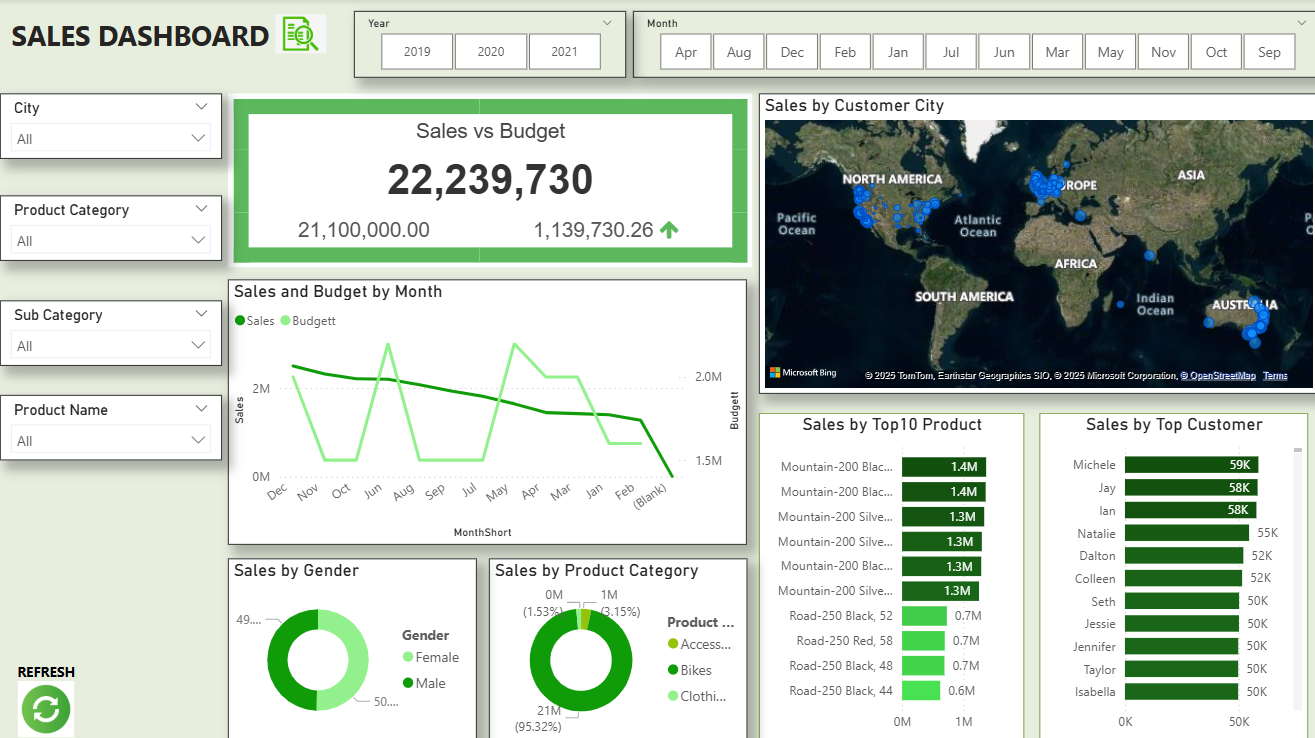

The dashboard page shown, as its layout file describes it:
{"tool":"powerbi","page":{"name":"SALES","canvas":[1280,720],"ordinal":0},"visuals":[{"type":"textbox","box":[0,11.3,272,55.1],"z":0},{"type":"BBED0A4D4D8D44CE93CF2DAFADEE466C","fields":{"actual":["Metrics.Sales"],"target1":["Metrics.Budgett"],"target2":["Metrics.Sales- Budget"]},"box":[221.8,92.3,508.4,168.4],"z":1000},{"type":"slicer","fields":{"Values":["DIM_Calendar.Year"]},"box":[343.3,11.3,263.9,64.8],"z":2000},{"type":"slicer","fields":{"Values":["DIM_Calendar.MonthShort"]},"box":[613.7,11.3,667.1,64.8],"z":3000},{"type":"lineChart","title":"Sales and Budget by Month","fields":{"Category":["DIM_Calendar.MonthShort"],"Y":["Metrics.Sales"],"Y2":["Metrics.Budgett"]},"box":[221.8,272,503.6,257.5],"z":4000},{"type":"map","fields":{"Category":["DIM_Customers.Customer City"],"Size":["Metrics.Sales"]},"box":[736.7,92.3,544.1,291.5],"z":5000},{"type":"barChart","title":"Sales by Top10 Product","fields":{"Category":["DIM_Products.Product Name"],"Y":["Metrics.Sales"]},"box":[736.7,401.6,257.5,319],"z":6000},{"type":"barChart","title":"Sales by Top Customer","fields":{"Y":["Metrics.Sales"],"Category":["DIM_Customers.First Name"]},"box":[1008.8,401.6,260.7,319],"z":7000},{"type":"donutChart","fields":{"Y":["Metrics.Sales"],"Series":["DIM_Products.Product Category"]},"box":[474.4,542.4,251,178.1],"z":8000},{"type":"donutChart","fields":{"Y":["Metrics.Sales"],"Series":["DIM_Customers.Gender"]},"box":[221.8,542.4,241.3,178.1],"z":9000},{"type":"slicer","fields":{"Values":["DIM_Customers.Customer City"]},"box":[0,92.3,215.4,63.1],"z":10000},{"type":"slicer","fields":{"Values":["DIM_Products.Product Category"]},"box":[0,191.1,215.4,63.1],"z":11000},{"type":"slicer","fields":{"Values":["DIM_Products.Sub Category"]},"box":[0,293.1,215.4,63.1],"z":12000},{"type":"slicer","fields":{"Values":["DIM_Products.Product Name"]},"box":[0,383.8,215.4,63.1],"z":13000},{"type":"image","box":[262.3,1.6,59.9,64.8],"z":14000},{"type":"image","box":[0,655.8,89.1,64.8],"z":15000},{"type":"textbox","box":[11.3,638,77.7,34],"z":16000}]}

Visuals, with their boxes in screenshot pixels (x1, y1, x2, y2), scaled from the page's 1280x720 canvas onto the 1315x738 screenshot:
textbox: 0 12 279 68
BBED0A4D4D8D44CE93CF2DAFADEE466C - Metrics.Sales x Metrics.Budgett: 228 95 750 267
slicer - DIM_Calendar.Year: 353 12 624 78
slicer - DIM_Calendar.MonthShort: 630 12 1314 78
"Sales and Budget by Month" lineChart: 228 279 745 543
map - DIM_Customers.Customer City x Metrics.Sales: 757 95 1314 393
"Sales by Top10 Product" barChart: 757 412 1021 737
"Sales by Top Customer" barChart: 1036 412 1304 737
donutChart - Metrics.Sales x DIM_Products.Product Category: 487 556 745 737
donutChart - Metrics.Sales x DIM_Customers.Gender: 228 556 476 737
slicer - DIM_Customers.Customer City: 0 95 221 159
slicer - DIM_Products.Product Category: 0 196 221 261
slicer - DIM_Products.Sub Category: 0 300 221 365
slicer - DIM_Products.Product Name: 0 393 221 458
image: 269 2 331 68
image: 0 672 92 737
textbox: 12 654 91 689
